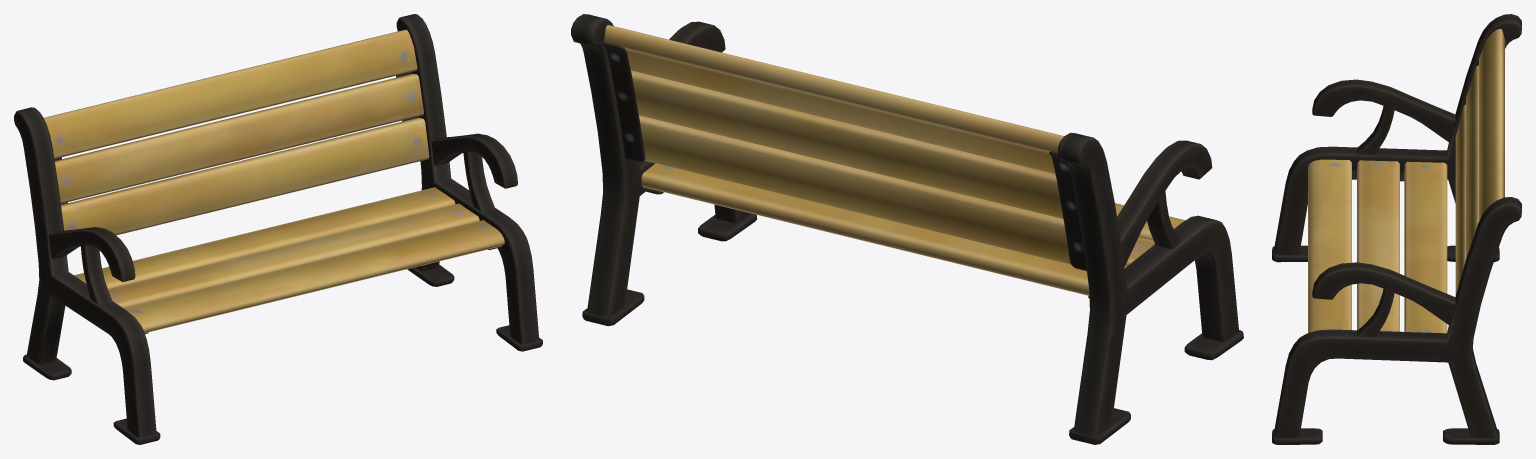
File: park-bench.glb
3 renders of one model, left to right at view 1: azimuth 30°, elevation 25°; view 2: azimuth 150°, elevation 25°; view 3: azimuth 270°, elevation 25°, orthographic. The views are drawn at different scales.
Size of the model in its own units: 17.54 by 10.05 by 9.51.
1 material, 1 textured.
